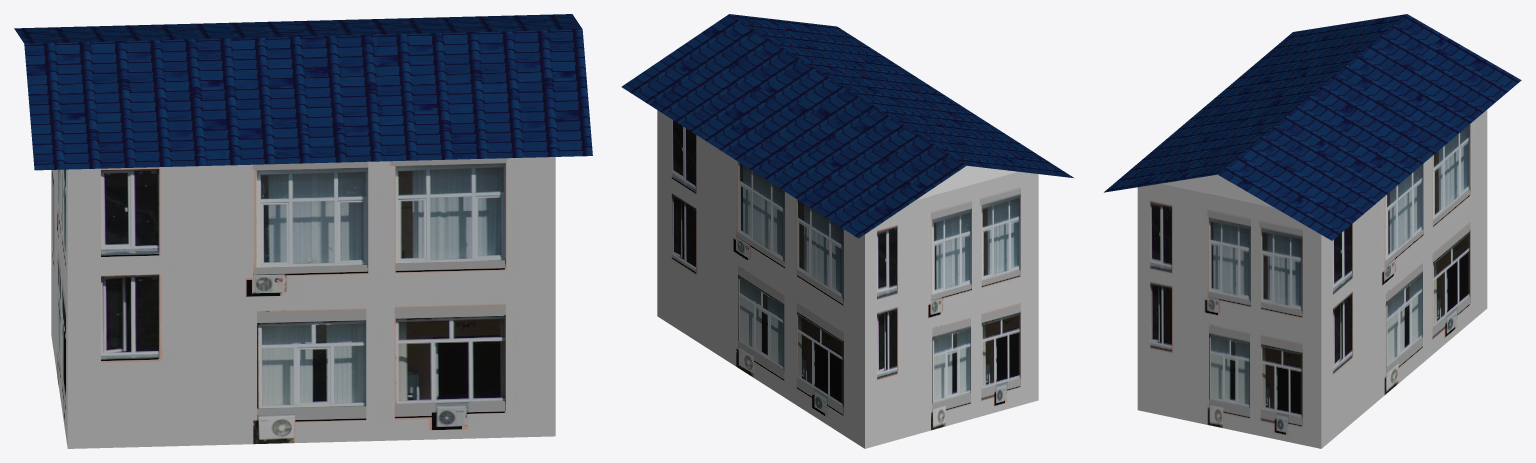
3 renders of one model, left to right at view 1: azimuth 30°, elevation 25°; view 2: azimuth 150°, elevation 25°; view 3: azimuth 270°, elevation 25°, orthographic. The views are drawn at different scales.
Parts seen in each view (by area): view 1: CityEngineMaterial_9_m, CityEngineMaterial_6_m; view 2: CityEngineMaterial_9_m, CityEngineMaterial_6_m, CityEngineMaterial_3_m; view 3: CityEngineMaterial_9_m, CityEngineMaterial_6_m, CityEngineMaterial_3_m.
Part boxes in pixels (left/top/right/bottom): CityEngineMaterial_9_m: left=51, top=157, right=555, bottom=448; CityEngineMaterial_6_m: left=14, top=14, right=592, bottom=170; CityEngineMaterial_9_m: left=657, top=110, right=1038, bottom=448; CityEngineMaterial_6_m: left=621, top=14, right=1074, bottom=238; CityEngineMaterial_3_m: left=915, top=165, right=1017, bottom=200; CityEngineMaterial_9_m: left=1137, top=110, right=1487, bottom=448; CityEngineMaterial_6_m: left=1104, top=14, right=1521, bottom=240; CityEngineMaterial_3_m: left=1161, top=174, right=1274, bottom=207.
Size of the model in its own units: 18.44 by 10.91 by 15.61.
